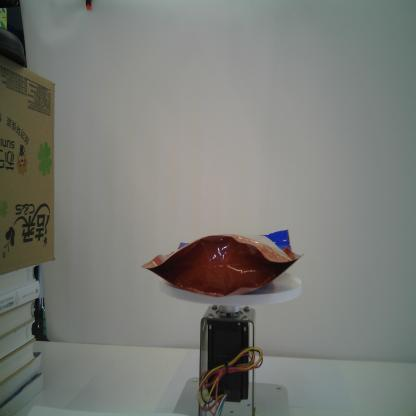Dried Food: (140, 228, 306, 300)
